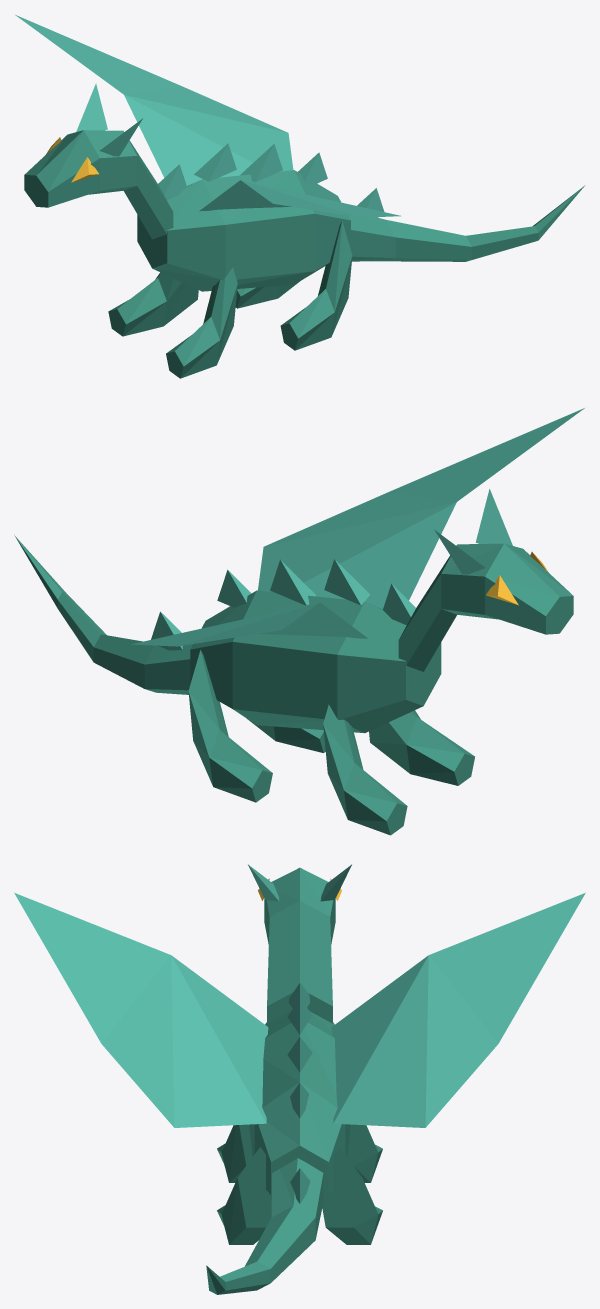
The model's file is low-poly-dragon.gltf.
3 views of the same model, one above another, from view 1: azimuth 30°, elevation 25°; view 2: azimuth 150°, elevation 25°; view 3: azimuth 270°, elevation 25° (orthographic). The views are drawn at different scales.
Parts seen in each view (by area): view 1: Dragon mesh; view 2: Dragon mesh; view 3: Dragon mesh.
Boxes of the visible parts, <box> form: Dragon mesh: <box>15,15,585,378</box>; Dragon mesh: <box>14,408,584,835</box>; Dragon mesh: <box>14,864,585,1294</box>.
Size of the model in its own units: 4.07 by 1.99 by 3.6.
